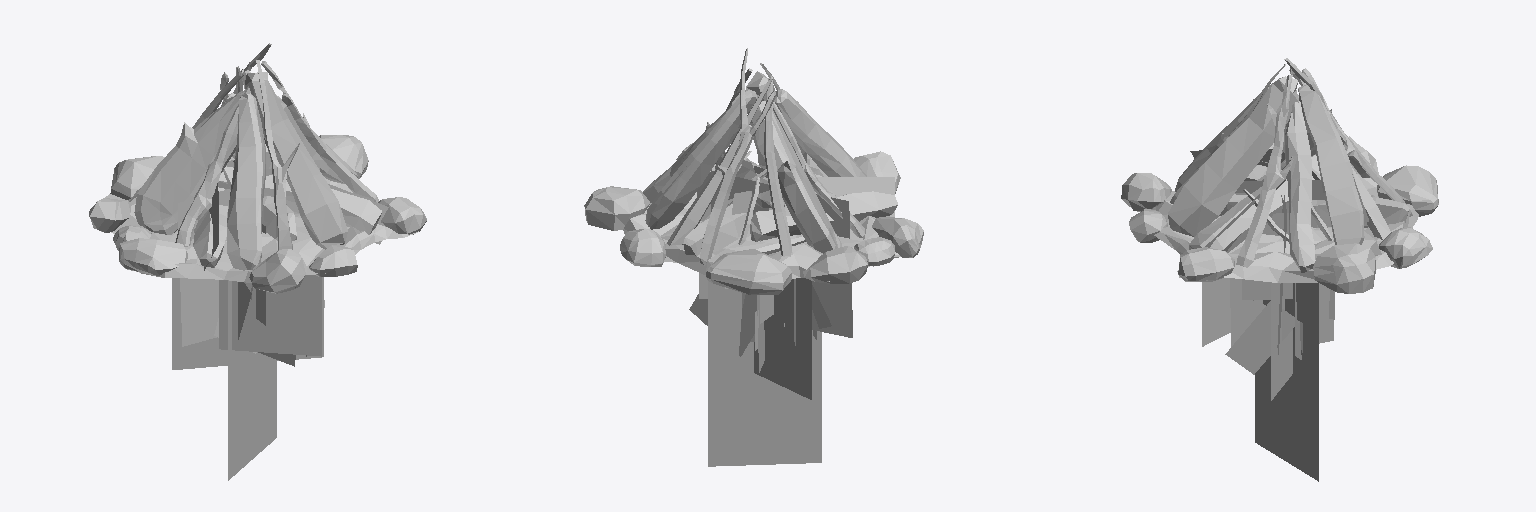
File: Campfire.obj
3 renders of one model, left to right at view 1: azimuth 30°, elevation 25°; view 2: azimuth 150°, elevation 25°; view 3: azimuth 270°, elevation 25°, orthographic.
Parts seen in each view (by area): view 1: Campfire, fire_part_017, fire_part_028, fire_part_02, fire_part_020; view 2: Campfire, fire_part_028, fire_part_020, fire_part_02, fire_part_013, fire_part_08, fire_part_022; view 3: Campfire, fire_part_028, fire_part_09, fire_part_016, fire_part_017, fire_part_020, fire_part_019, fire_part_024.
Boxes of the visible parts, box(x1,y1,x2,y2) form: Campfire: box(89, 43, 426, 293); fire_part_017: box(219, 275, 321, 356); fire_part_028: box(228, 280, 276, 480); fire_part_02: box(178, 164, 324, 346); fire_part_020: box(172, 277, 323, 369); Campfire: box(584, 48, 923, 294); fire_part_028: box(708, 281, 821, 466); fire_part_020: box(754, 278, 811, 399); fire_part_02: box(697, 172, 852, 337); fire_part_013: box(785, 177, 894, 216); fire_part_08: box(689, 294, 756, 356); fire_part_022: box(711, 170, 768, 214); Campfire: box(1121, 58, 1438, 293); fire_part_028: box(1255, 283, 1318, 481); fire_part_09: box(1225, 301, 1298, 374); fire_part_016: box(1230, 278, 1333, 346); fire_part_017: box(1202, 278, 1230, 346); fire_part_020: box(1271, 282, 1292, 400); fire_part_019: box(1263, 283, 1310, 325); fire_part_024: box(1242, 279, 1292, 299).
Bounding box in the file's own units: 3.92 × 5.39 × 3.76.